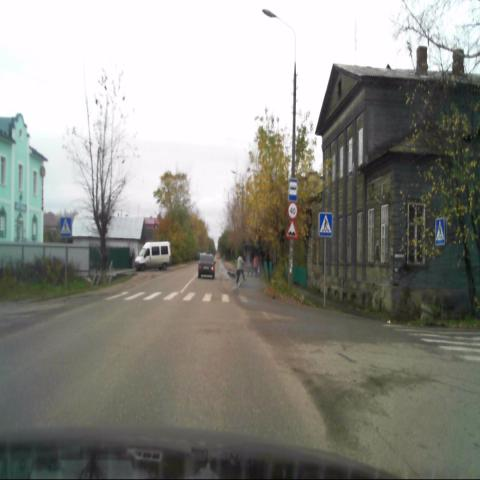1_16: (284, 220, 298, 239)
